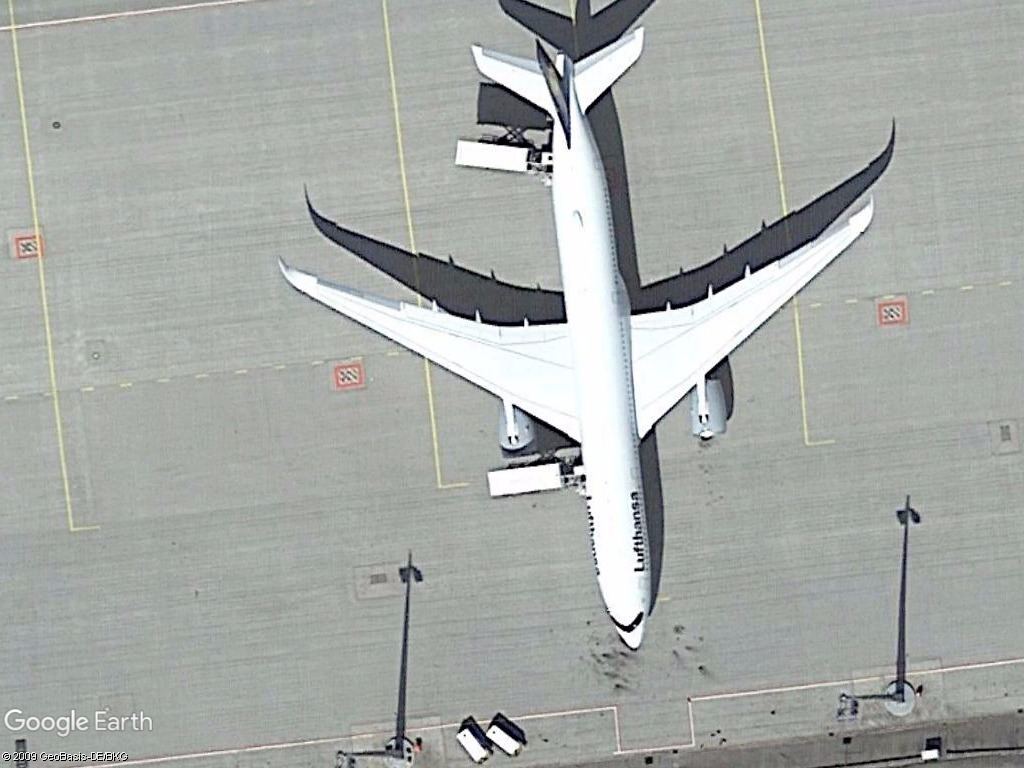airliner: (265, 23, 882, 659)
longvehicle: (481, 458, 567, 502), (450, 132, 533, 175)
